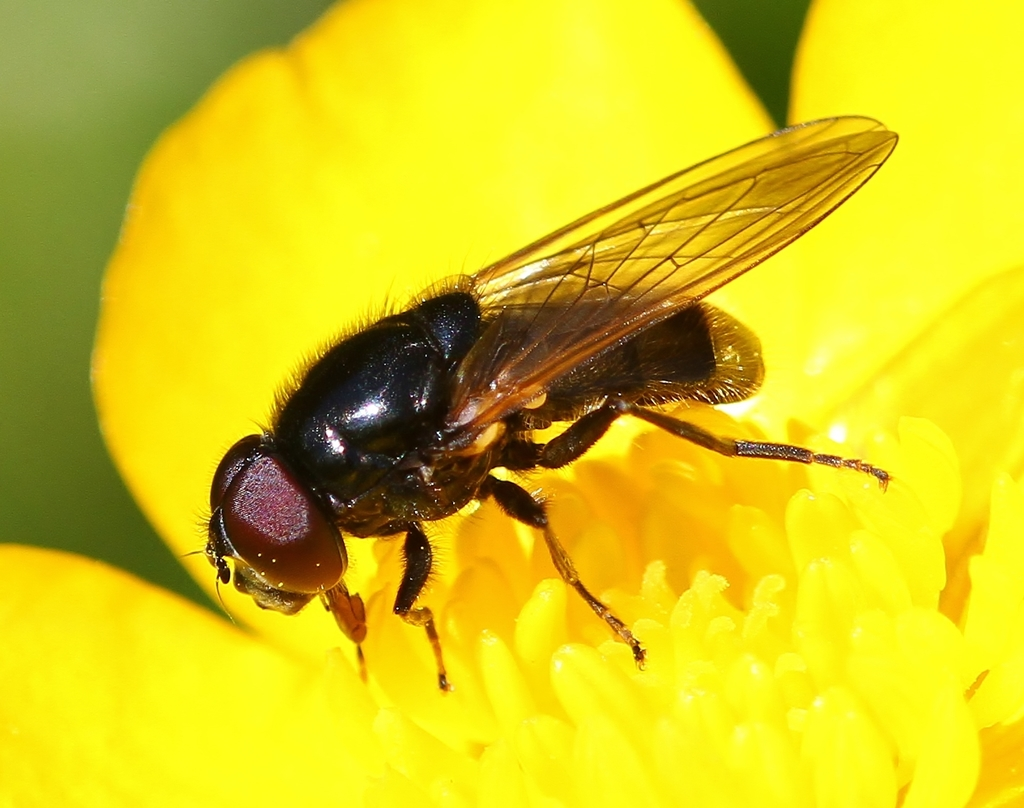not_bumblebee: (175, 113, 903, 696)
